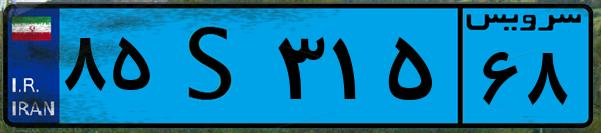1: (330, 28, 385, 110)
3: (270, 28, 330, 110)
5: (385, 28, 445, 110), (110, 28, 158, 98)
6: (475, 38, 525, 113)
8: (57, 26, 110, 100), (525, 38, 570, 115)
S: (158, 12, 270, 120)
